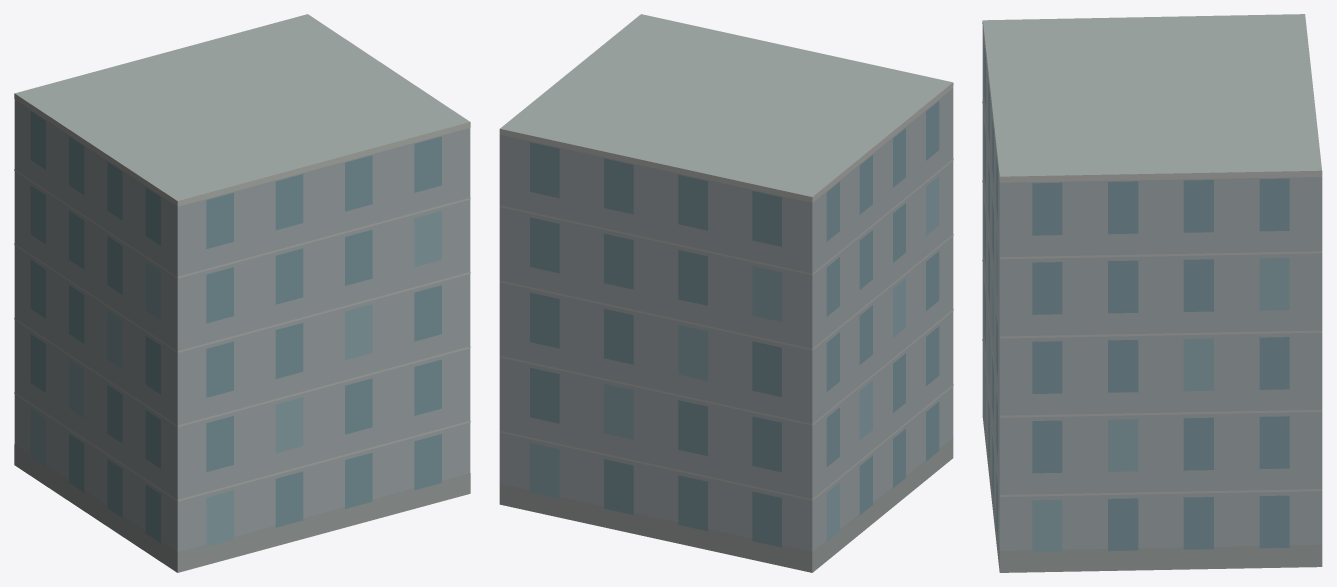
The model's file is survey-upis-32793672.glb.
3 views of the same model, side by side, from view 1: azimuth 30°, elevation 25°; view 2: azimuth 150°, elevation 25°; view 3: azimuth 270°, elevation 25° (orthographic). The views are drawn at different scales.
Parts seen in each view (by area): view 1: survey-upis-32793672.tmp; view 2: survey-upis-32793672.tmp; view 3: survey-upis-32793672.tmp.
Boxes of the visible parts, left/top/right/bottom form: survey-upis-32793672.tmp: left=14, top=14, right=470, bottom=572; survey-upis-32793672.tmp: left=499, top=14, right=953, bottom=572; survey-upis-32793672.tmp: left=982, top=14, right=1322, bottom=572.
Bounding box in the file's own units: 14.02 × 15.9 × 12.37.
